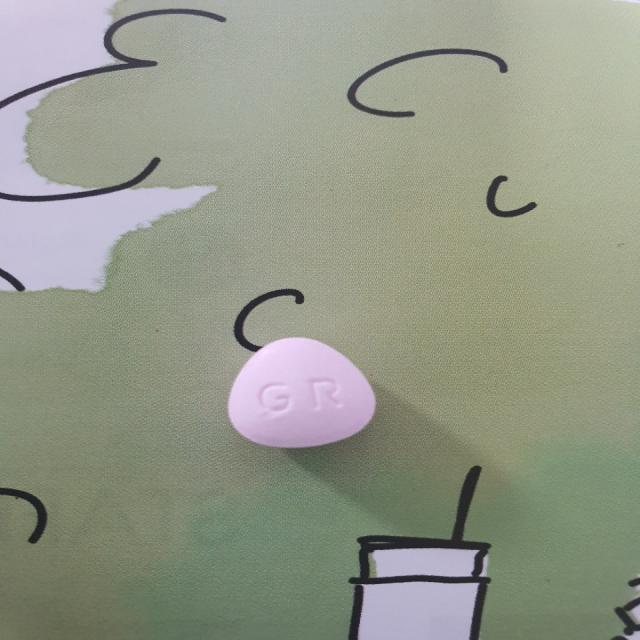pill: (220, 321, 387, 461)
